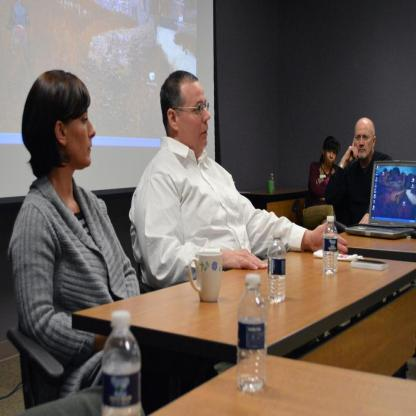board: (344, 158, 416, 242), (102, 311, 141, 416), (238, 273, 265, 392), (268, 228, 286, 304), (324, 216, 338, 274), (270, 172, 275, 192)
